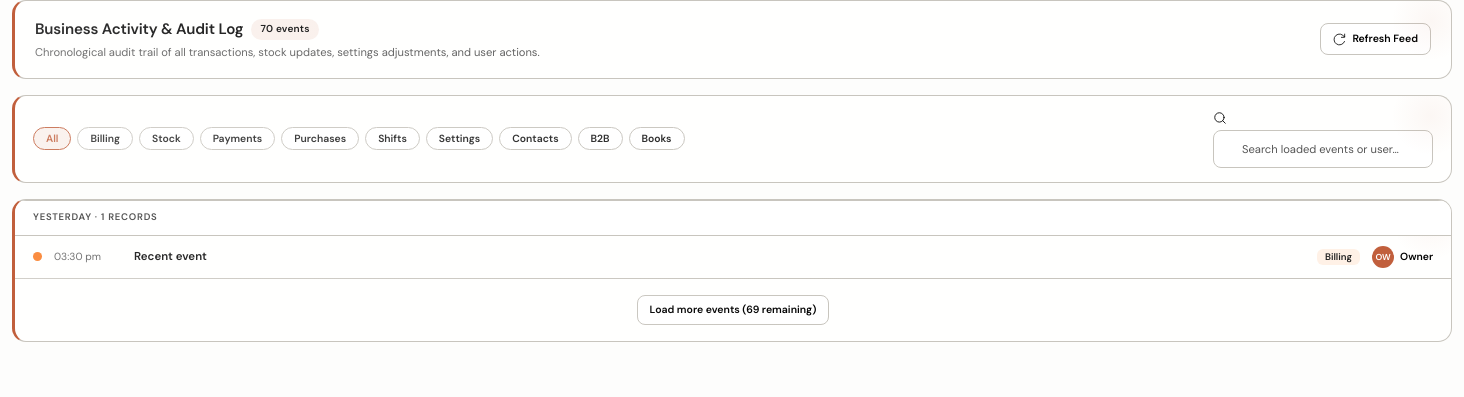
Test: Business activity audit feed › keeps older events reachable while searching loaded results
Check: the text "Recent event" is shown, box x1=134 y1=249 x2=207 y2=264
Step 1. Type "matching" into the field named "Search loaded activity events" → (1323, 149), box x1=1213 y1=130 x2=1433 y2=168
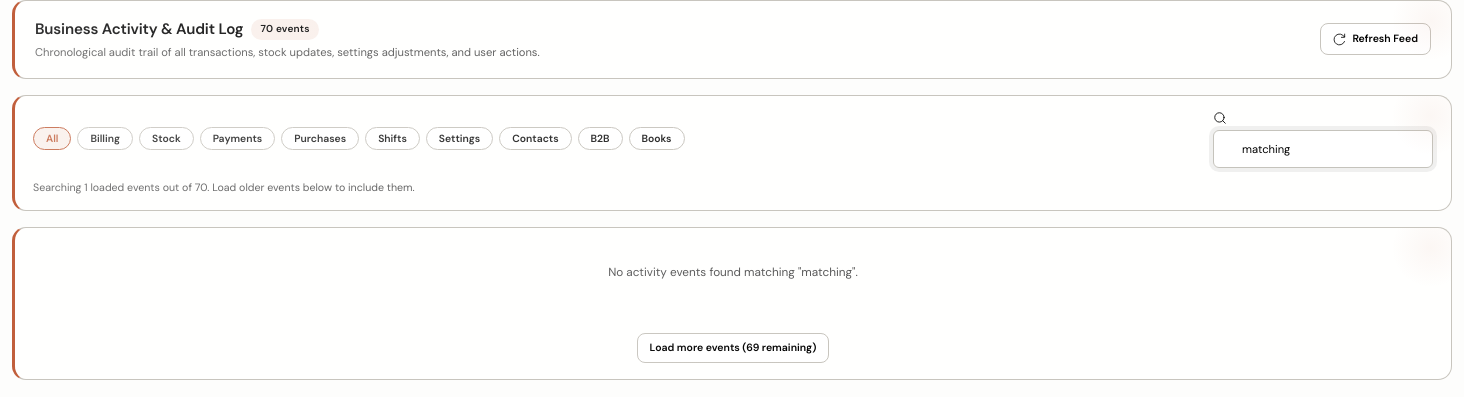
Check: the text "Searching 1 loaded events out of 70" is shown, box x1=33 y1=180 x2=415 y2=194
Step 2. Click the button "Load more events (69 remaining)" → (733, 348), box x1=637 y1=333 x2=829 y2=363
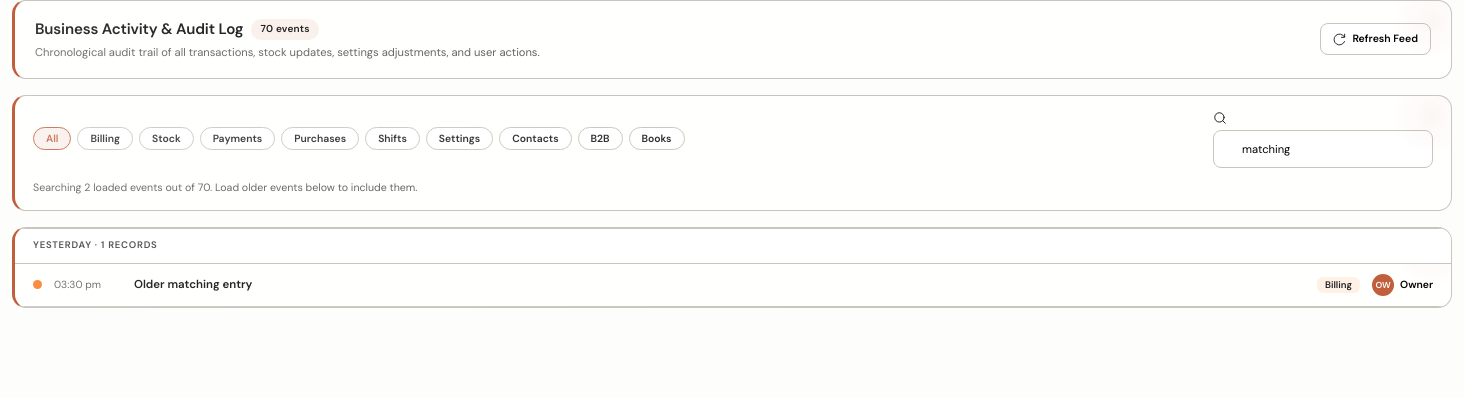
Check: the button with aria-label "View activity: Older matching entry" is shown, box x1=15 y1=264 x2=1451 y2=307
